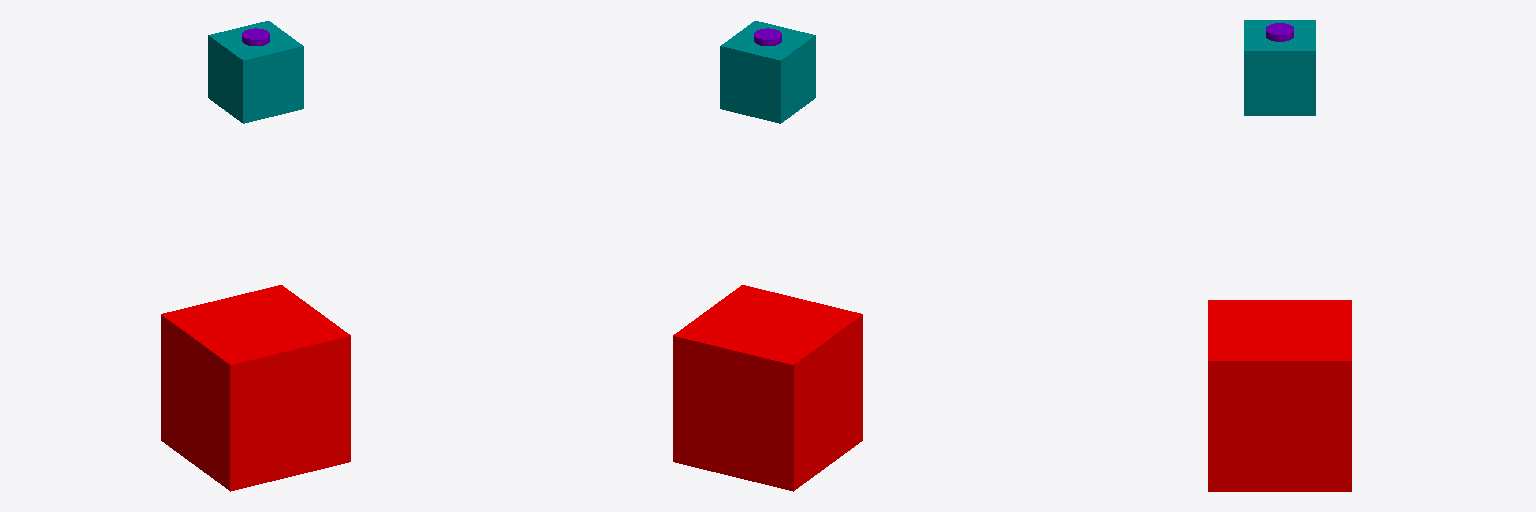
The robot description file, URDF, robot "collision_tree_test":
<?xml version="1.0"?>
<robot name="collision_tree_test">

  <!-- ========================= -->
  <!-- base_link : COLLISION -->
  <!-- ========================= -->
  <link name="base_link">
    <visual>
      <geometry><box size="0.2 0.2 0.2"/></geometry>
      <material name="red"><color rgba="1 0 0 1"/></material>
    </visual>
    <collision>
      <geometry><box size="0.2 0.2 0.2"/></geometry>
    </collision>
  </link>

  <joint name="base_to_mid1" type="fixed">
    <parent link="base_link"/>
    <child link="mid_link_1"/>
  </joint>

  <!-- ========================= -->
  <!-- mid_link_1 : NO COLLISION -->
  <!-- ========================= -->
  <link name="mid_link_1">
    <visual>
      <geometry><sphere radius="0.04"/></geometry>
      <material name="gray"><color rgba="0.7 0.7 0.7 1"/></material>
    </visual>
  </link>

  <!-- ========================= -->
  <!-- Branch 1 -->
  <!-- ========================= -->
  <joint name="mid1_to_b1a" type="revolute">
    <parent link="mid_link_1"/>
    <child link="branch1_linkA"/>
    <axis xyz="0 0 1"/>
    <limit lower="-1.0" upper="1.0" effort="5" velocity="2"/>
  </joint>

  <link name="branch1_linkA">
    <visual>
      <geometry><cylinder length="0.1" radius="0.03"/></geometry>
      <material name="green"><color rgba="0 1 0 1"/></material>
    </visual>
    <collision>
      <geometry><cylinder length="0.1" radius="0.03"/></geometry>
    </collision>
  </link>

  <joint name="b1a_to_b1b" type="fixed">
    <parent link="branch1_linkA"/>
    <child link="branch1_linkB"/>
  </joint>

  <link name="branch1_linkB">
    <visual>
      <geometry><sphere radius="0.03"/></geometry>
      <material name="lightgreen"><color rgba="0.6 1 0.6 1"/></material>
    </visual>
  </link>

  <!-- ========================= -->
  <!-- mid_link_2 : COLLISION -->
  <!-- ========================= -->
  <joint name="mid1_to_mid2" type="revolute">
    <parent link="mid_link_1"/>
    <child link="mid_link_2"/>
    <axis xyz="1 0 0"/>
    <limit lower="-0.5" upper="0.5" effort="5" velocity="2"/>
  </joint>

  <link name="mid_link_2">
    <visual>
      <geometry><sphere radius="0.05"/></geometry>
      <material name="blue"><color rgba="0 0 1 1"/></material>
    </visual>
    <collision>
      <geometry><sphere radius="0.05"/></geometry>
    </collision>
  </link>

  <!-- ========================= -->
  <!-- mid_link_3 : NO COLLISION -->
  <!-- ========================= -->
  <joint name="mid2_to_mid3" type="fixed">
    <parent link="mid_link_2"/>
    <child link="mid_link_3"/>
    <origin rpy="0 0 0" xyz="0 0 0.5"/>
  </joint>

  <link name="mid_link_3">
    <visual>
      <geometry><sphere radius="0.035"/></geometry>
      <material name="yellow"><color rgba="1 1 0 1"/></material>
    </visual>
  </link>

  <!-- ========================= -->
  <!-- Branch 2 -->
  <!-- ========================= -->
  <joint name="mid3_to_b2a" type="prismatic">
    <parent link="mid_link_3"/>
    <child link="branch2_linkA"/>
    <axis xyz="0 0 1"/>
    <limit lower="0" upper="0.1" effort="5" velocity="1"/>
  </joint>

  <link name="branch2_linkA">
    <visual>
      <geometry><sphere radius="0.03"/></geometry>
      <material name="cyan"><color rgba="0 1 1 1"/></material>
    </visual>
  </link>

  <joint name="b2a_to_b2b" type="fixed">
    <parent link="branch2_linkA"/>
    <child link="branch2_linkB"/>
  </joint>

  <link name="branch2_linkB">
    <visual>
      <geometry><box size="0.1 0.1 0.1"/></geometry>
      <material name="darkcyan"><color rgba="0 0.6 0.6 1"/></material>
    </visual>
    <collision>
      <geometry><box size="0.1 0.1 0.1"/></geometry>
    </collision>
  </link>

  <!-- ========================= -->
  <!-- Branch 3 -->
  <!-- ========================= -->
  <joint name="mid3_to_b3a" type="revolute">
    <parent link="mid_link_3"/>
    <child link="branch3_linkA"/>
    <axis xyz="0 1 0"/>
    <limit lower="-1.2" upper="1.2" effort="5" velocity="2"/>
  </joint>

  <link name="branch3_linkA">
    <visual>
      <geometry><cylinder length="0.12" radius="0.02"/></geometry>
      <material name="purple"><color rgba="0.5 0 0.8 1"/></material>
    </visual>
    <collision>
      <geometry><cylinder length="0.12" radius="0.02"/></geometry>
    </collision>
  </link>

  <joint name="b3a_to_b3b" type="fixed">
    <parent link="branch3_linkA"/>
    <child link="branch3_linkB"/>
  </joint>

  <link name="branch3_linkB">
    <visual>
      <geometry><sphere radius="0.04"/></geometry>
      <material name="pink"><color rgba="1 0.4 0.7 1"/></material>
    </visual>
    <collision>
      <geometry><sphere radius="0.04"/></geometry>
    </collision>
  </link>

</robot>

--- Render facts (derived) ---
3 views of the same robot in one strip: view 1: azimuth 30°, elevation 25°; view 2: azimuth 150°, elevation 25°; view 3: azimuth 270°, elevation 25° (orthographic).
Model collision_tree_test with 10 links and 9 joints (3 revolute, 1 prismatic, 5 fixed), rooted at base_link, posed all joints at 0.
Links seen in each view (by area): view 1: base_link, branch2_linkB; view 2: base_link, branch2_linkB; view 3: base_link, branch2_linkB.
Boxes of the visible links, x1,y1,x2,y2 form: base_link: (161,285,350,491); branch2_linkB: (208,21,303,123); base_link: (673,285,862,491); branch2_linkB: (720,21,815,123); base_link: (1208,300,1351,491); branch2_linkB: (1244,20,1315,115).
Bounding box of the posed robot: 0.2 × 0.2 × 0.66 m (x, y, z).
Geometry: primitives only (box / cylinder / sphere), no mesh files.
